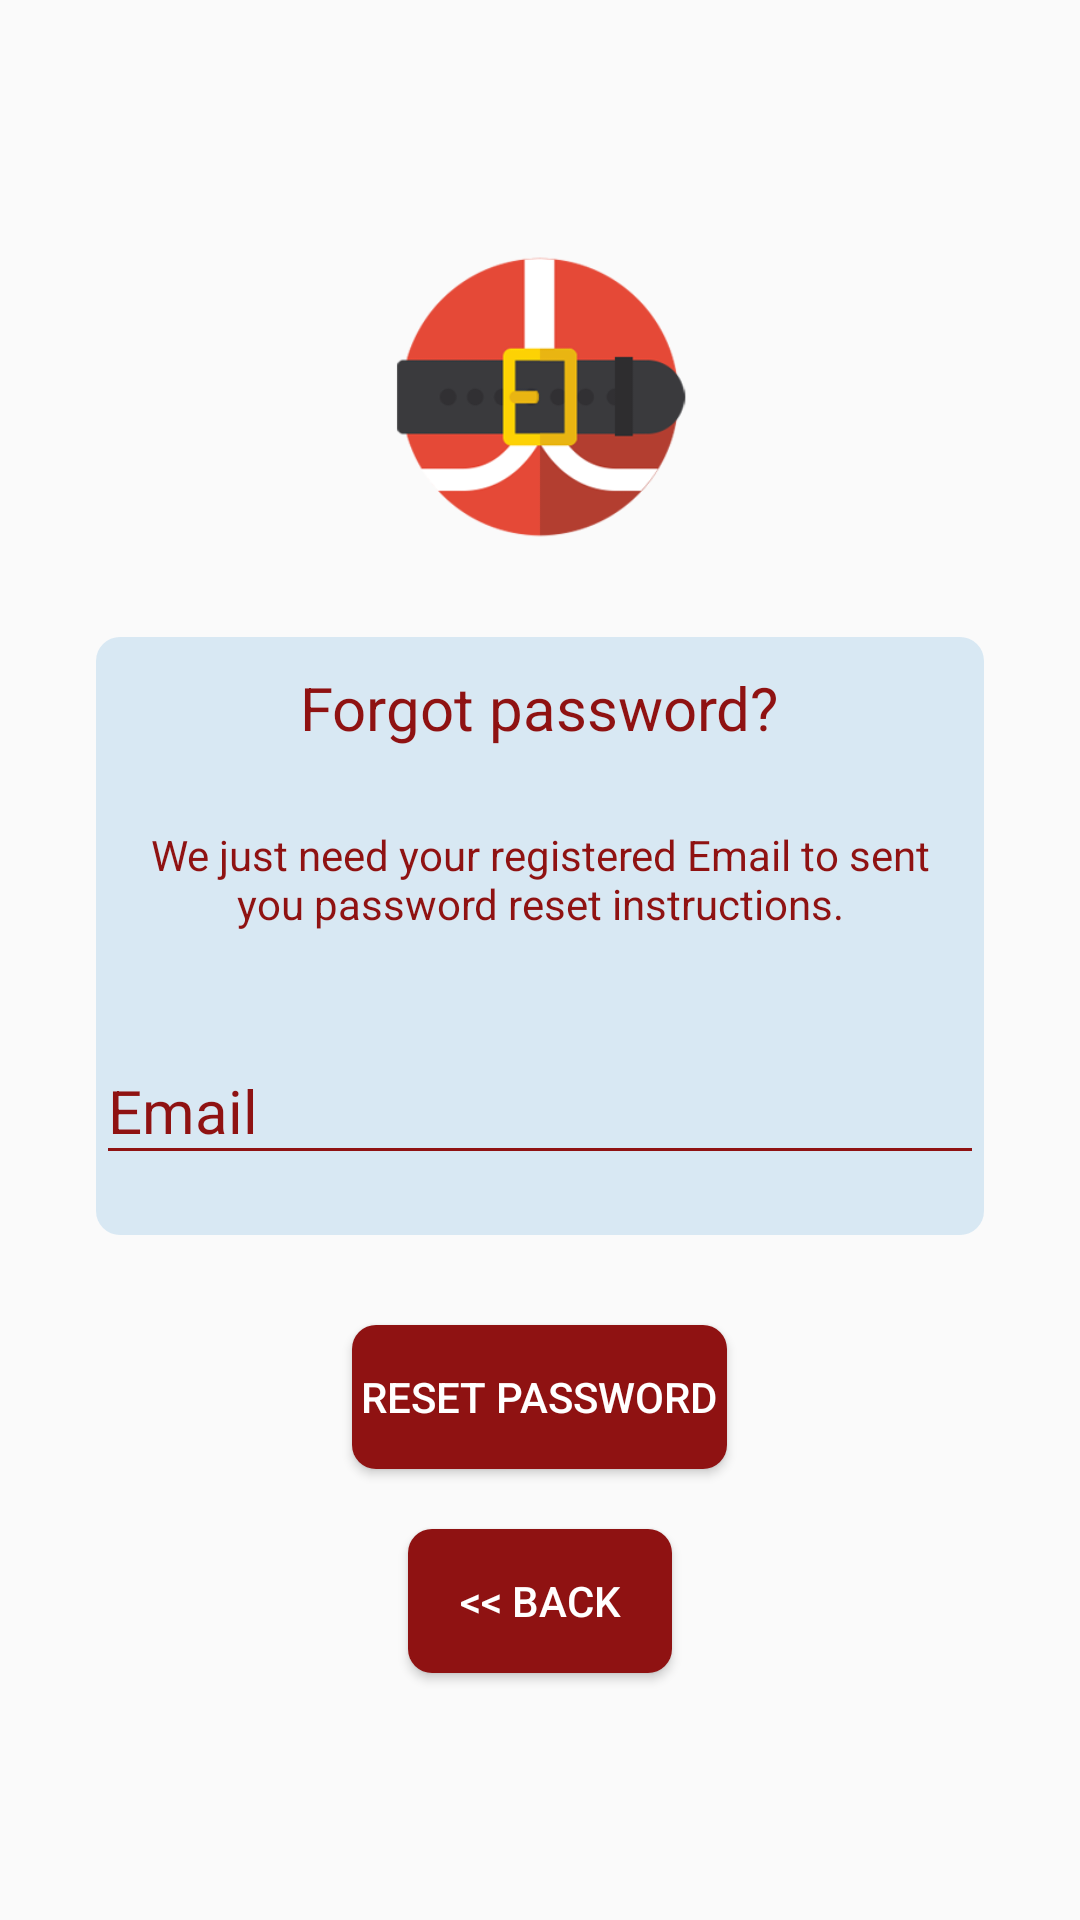

Named icons in this screenshot (1080*1920) and their centers, (x=x, y=y):
santaa: (x=541, y=397)
